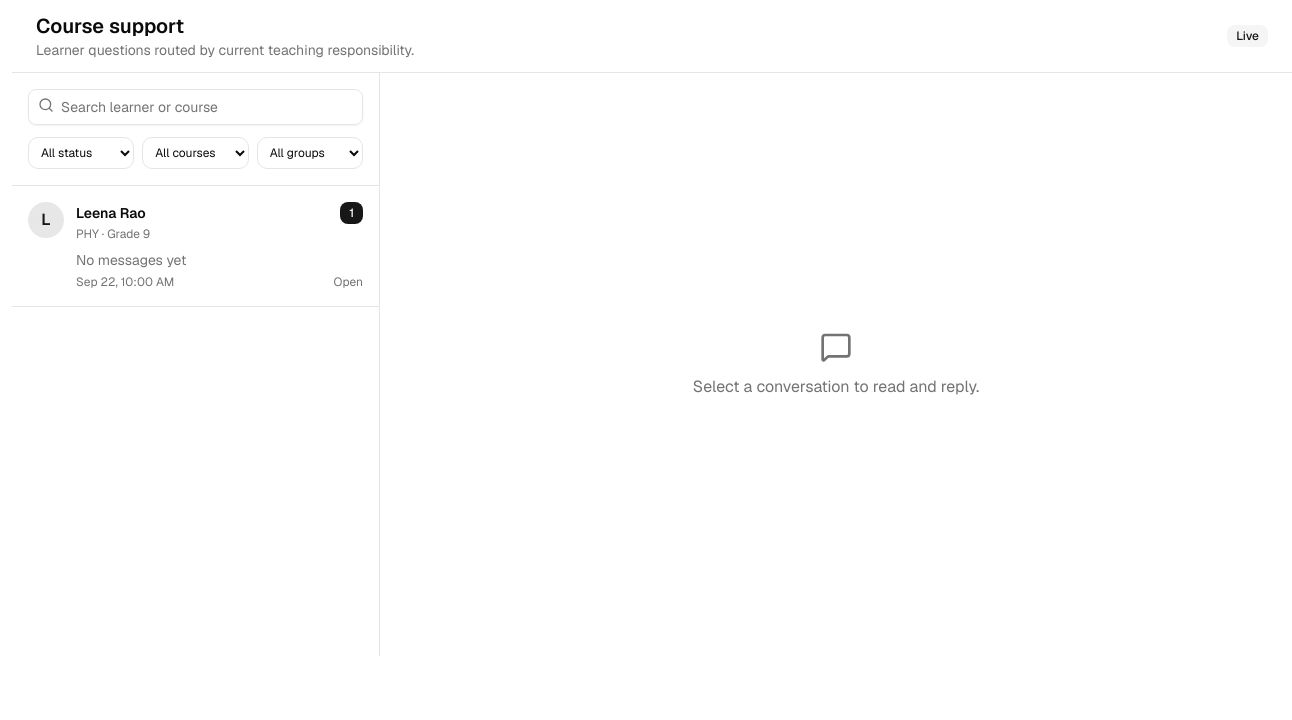
Scenario: SupportChatWorkspace › keeps replies pending until acknowledgement and merges the durable message
Click the button with aria-label "Open conversation with Leena Rao" at (46, 220), box left=12, top=186, right=379, bottom=307
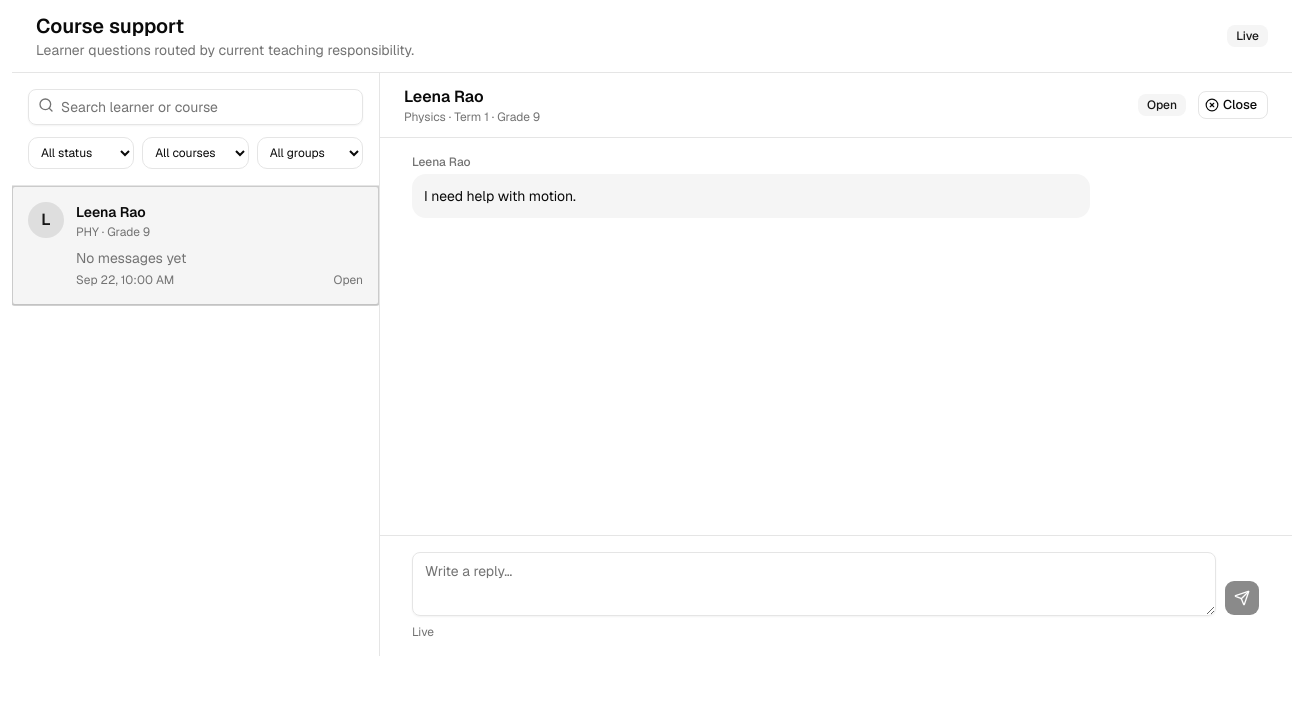
Type "Let us work through it." into the text box named "Reply to learner" at (814, 584), box left=412, top=552, right=1216, bottom=616
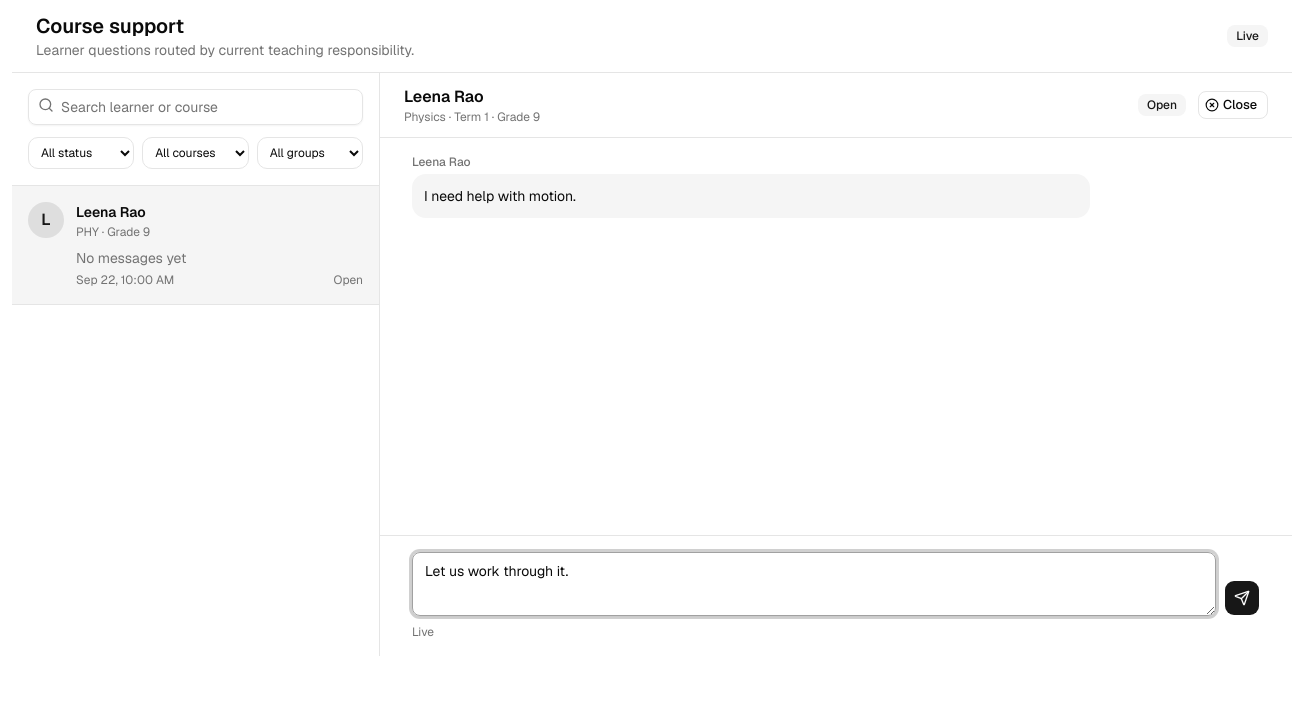
Click the button named "Send reply" at (1242, 598), box left=1224, top=580, right=1260, bottom=616
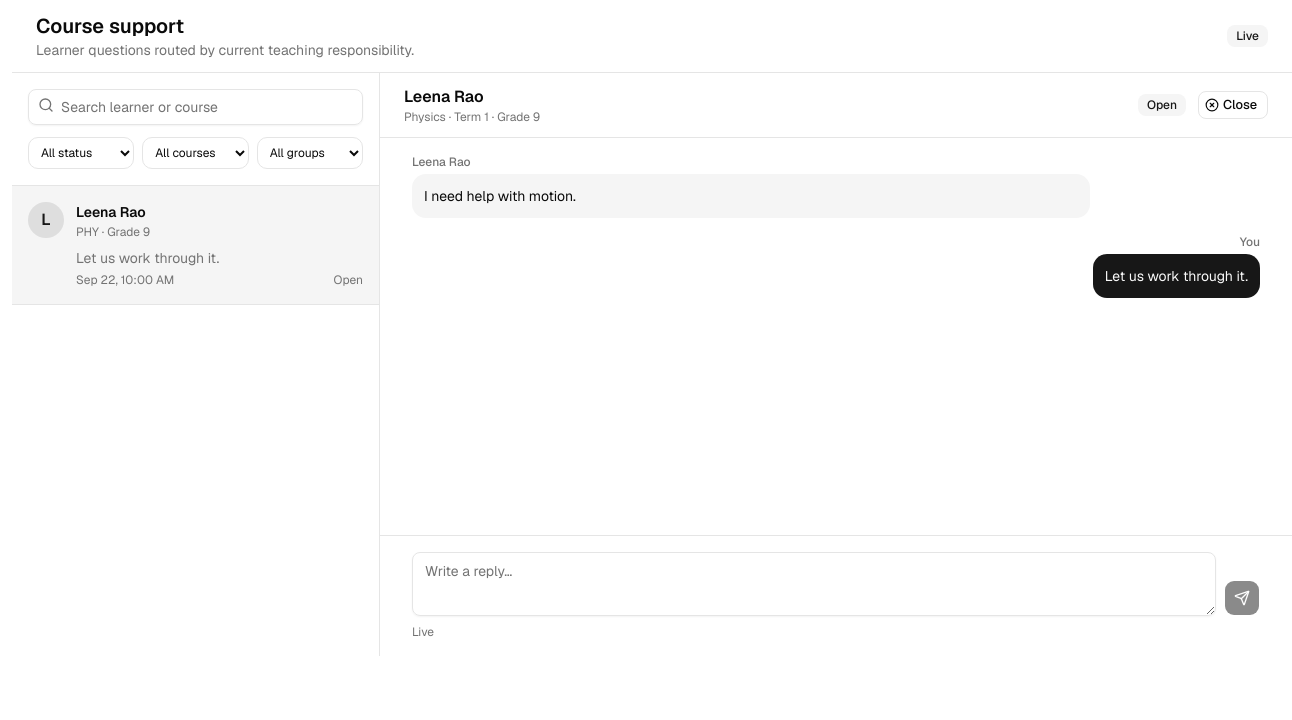
Check: the element named "Your message" is shown, box left=1093, top=234, right=1260, bottom=298
